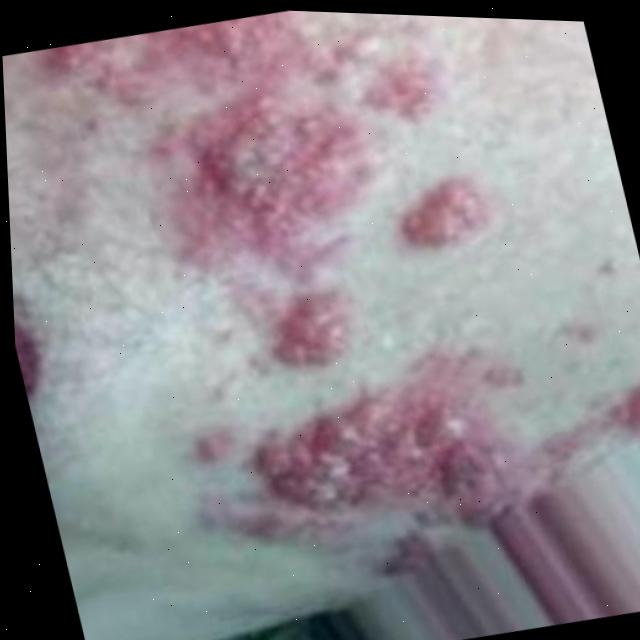Shingles: (33, 1, 548, 594), (619, 379, 640, 433)
